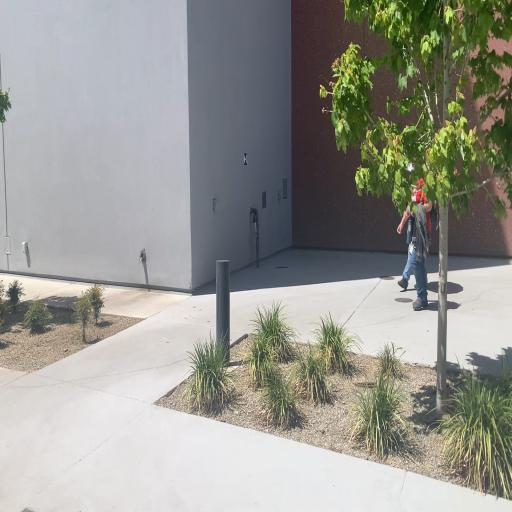target3: (243, 153, 247, 165)
